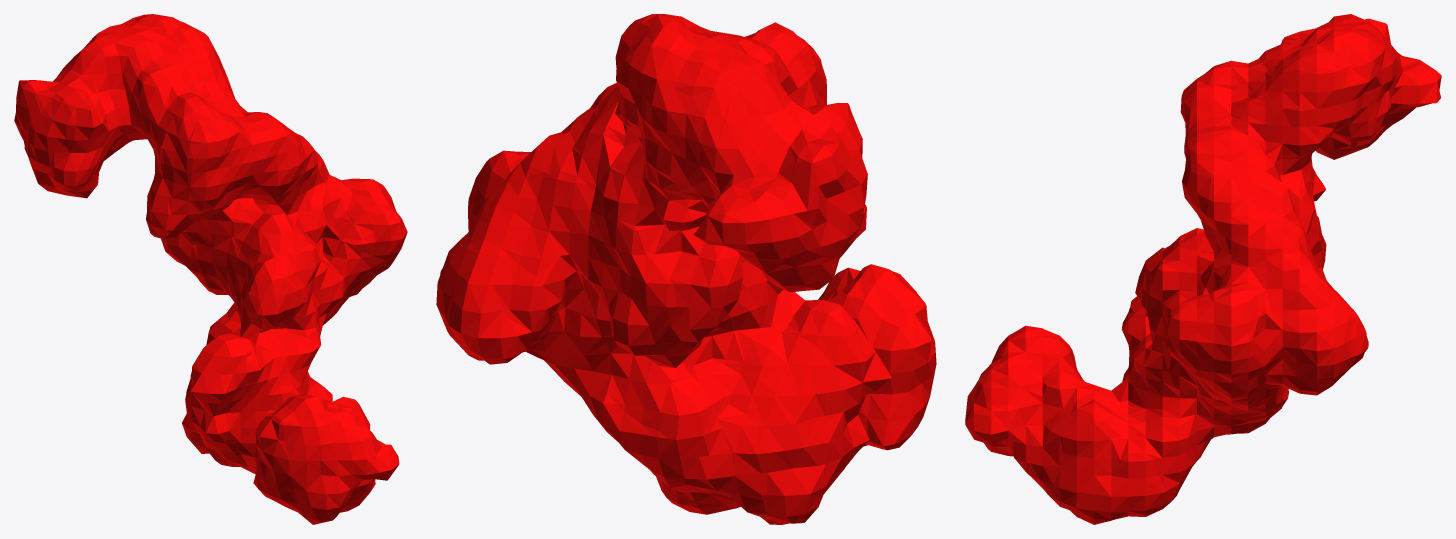
Rendered from mukE_coarse.dae.
The picture shows the model from 3 angles, left to right: view 1: azimuth 30°, elevation 25°; view 2: azimuth 150°, elevation 25°; view 3: azimuth 270°, elevation 25°; orthographic projection. The views are drawn at different scales.
Parts seen in each view (by area): view 1: mukE; view 2: mukE; view 3: mukE.
Boxes of the visible parts, <box> form: mukE: <box>14,14,407,524</box>; mukE: <box>436,14,936,524</box>; mukE: <box>965,14,1441,524</box>.
Size of the model in its own units: 113 by 145 by 138.
